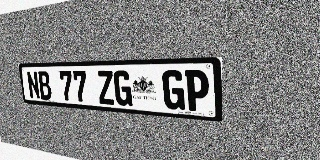7: (72, 71, 89, 103), (58, 71, 75, 102)
B: (37, 71, 52, 100)
G: (162, 70, 185, 110), (113, 70, 133, 106)
N: (26, 71, 41, 99)
P: (185, 70, 209, 112)
Z: (96, 71, 115, 105)
